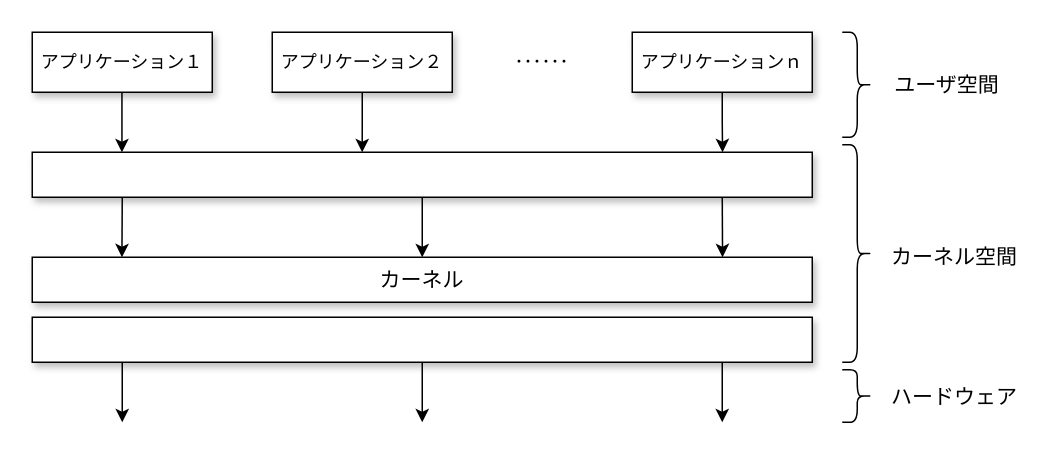
This 1049x461 diagram has some shape labels left out. The centre of each missing label's shape, as x and y in pixels:
システム・コールのインタフェース: (x=423, y=176)
デバイス・ドライバ: (x=423, y=341)
